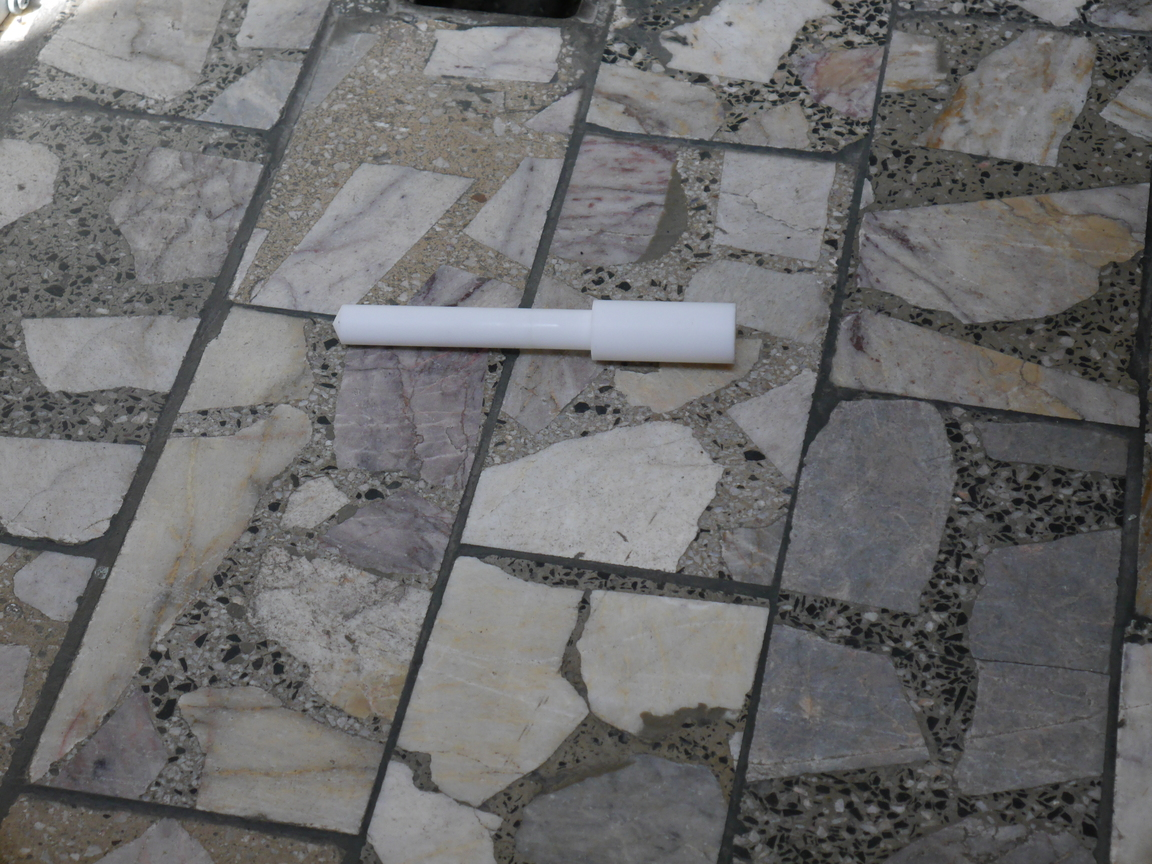cargo_g: (333, 298, 738, 372)
